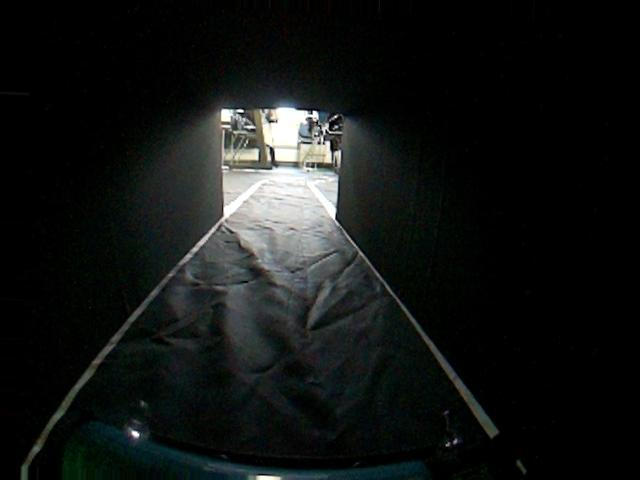straight: (4, 179, 639, 480)
